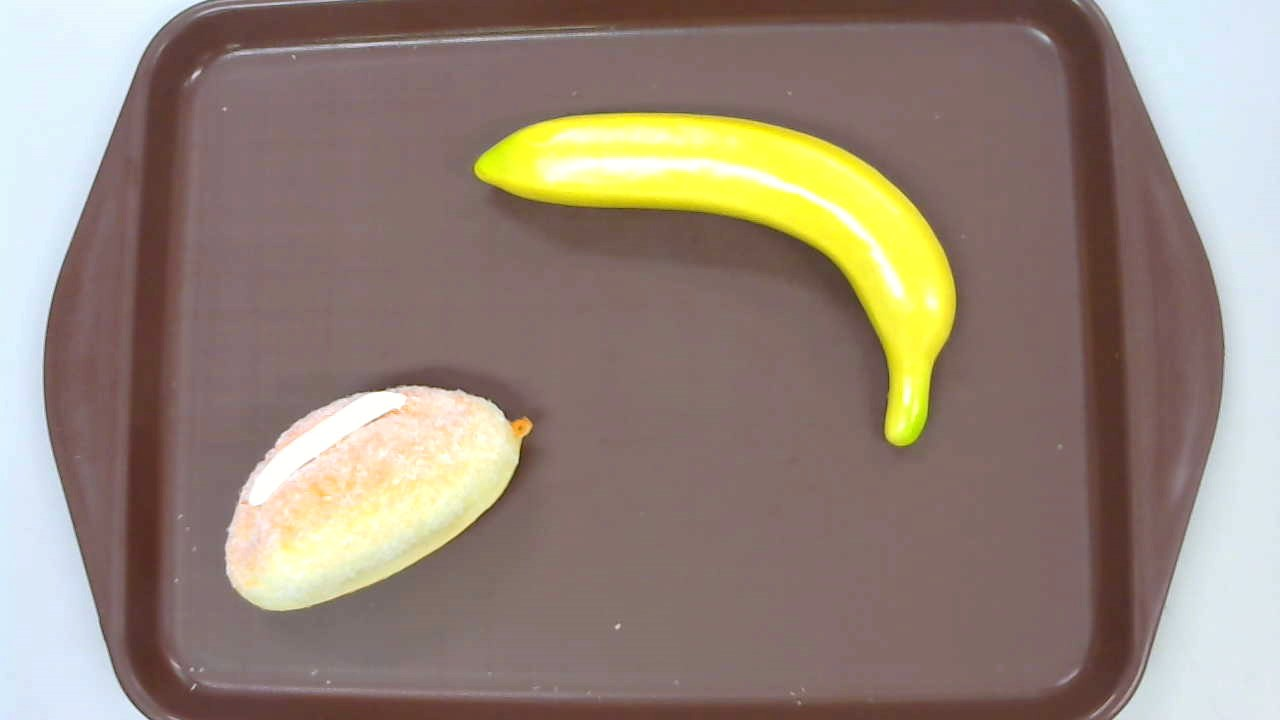banana: (474, 112, 957, 446)
coconut: (223, 384, 533, 612)
